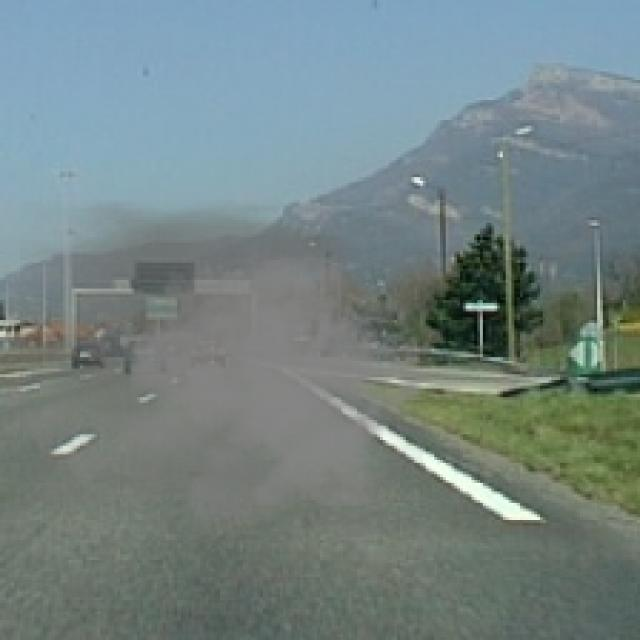smoke: (20, 200, 437, 543)
